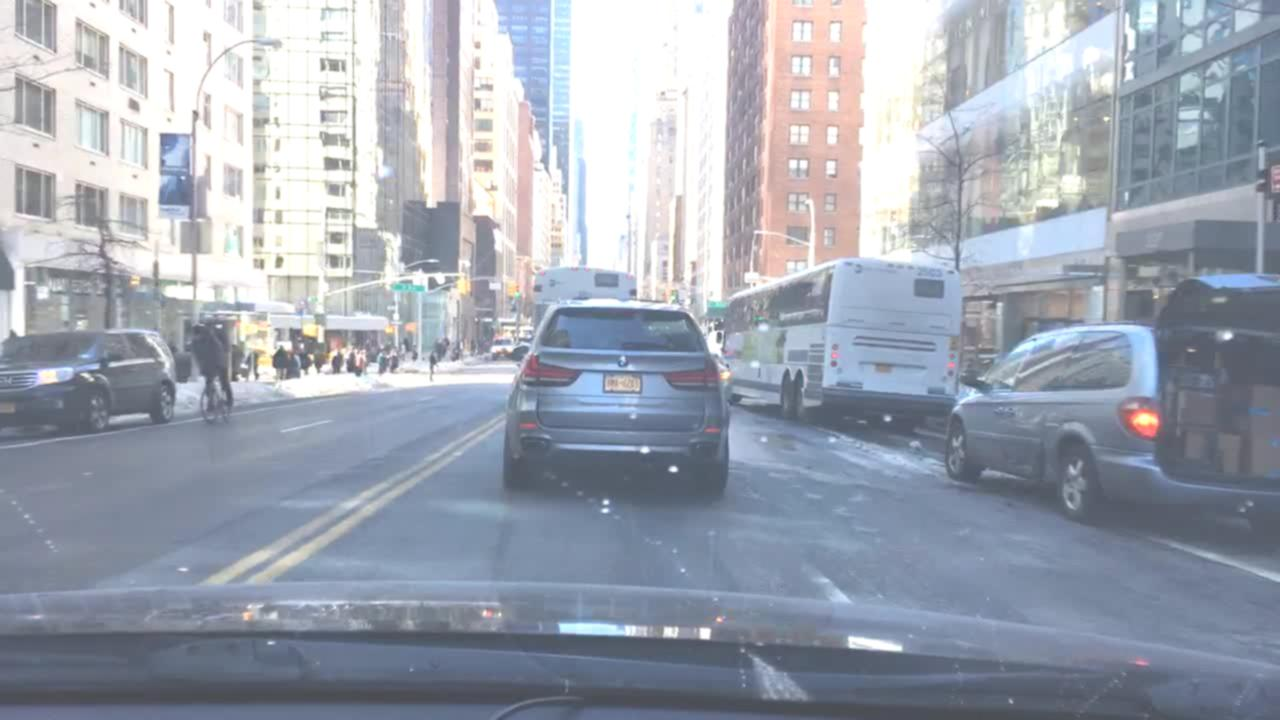bmw: (611, 352, 639, 373)
